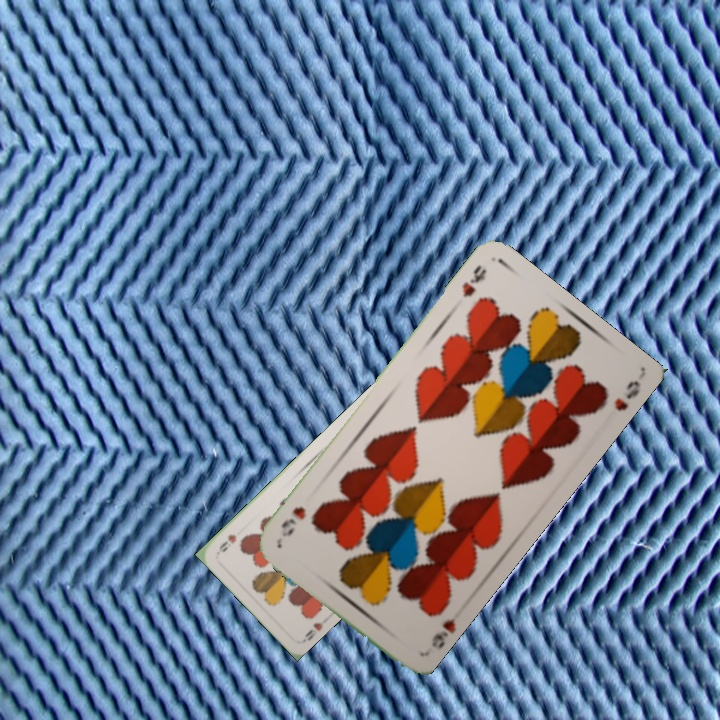H9: (427, 606, 464, 652), (457, 260, 489, 300), (299, 613, 332, 644)
